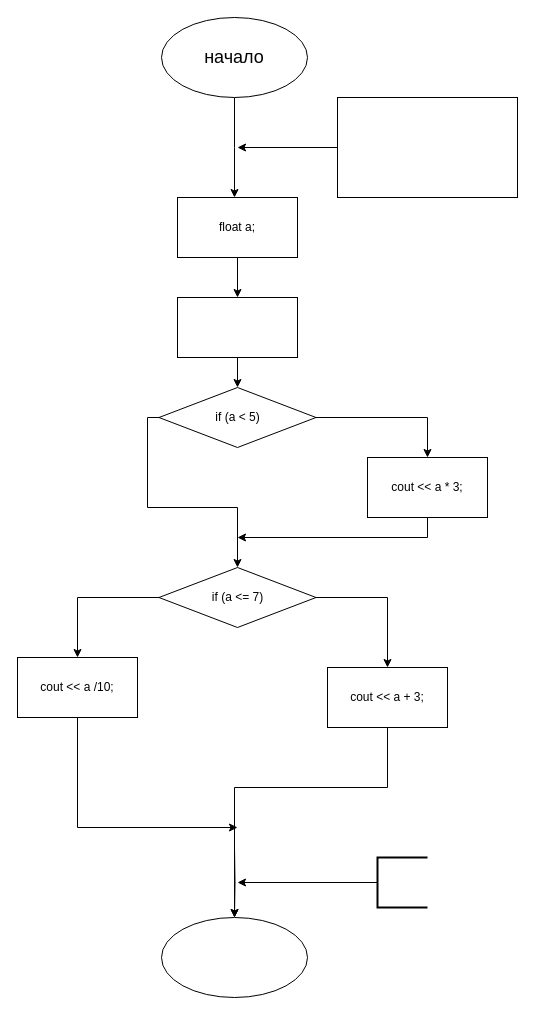
This 535x1015 diagram has some shape labels left out. Here are the shapes that lost their labels. From the top down, the box of each, then its label:
(336, 96, 518, 198): #include using namespace std; main(){
(176, 296, 298, 358): cin >> a;
(376, 856, 428, 908): return = 0;
(160, 916, 308, 998): конец
